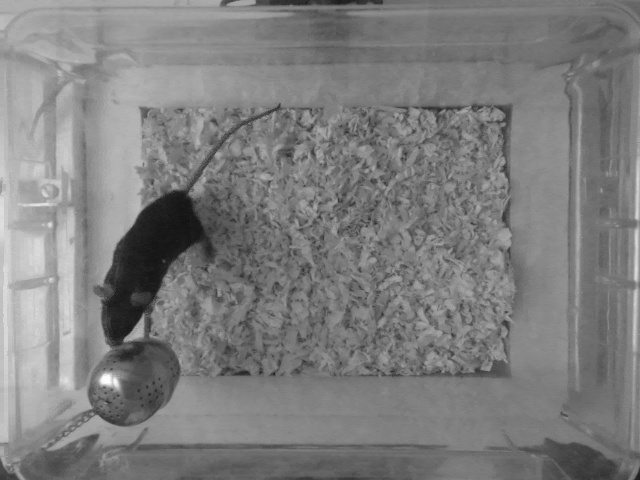mice: (92, 103, 287, 349)
